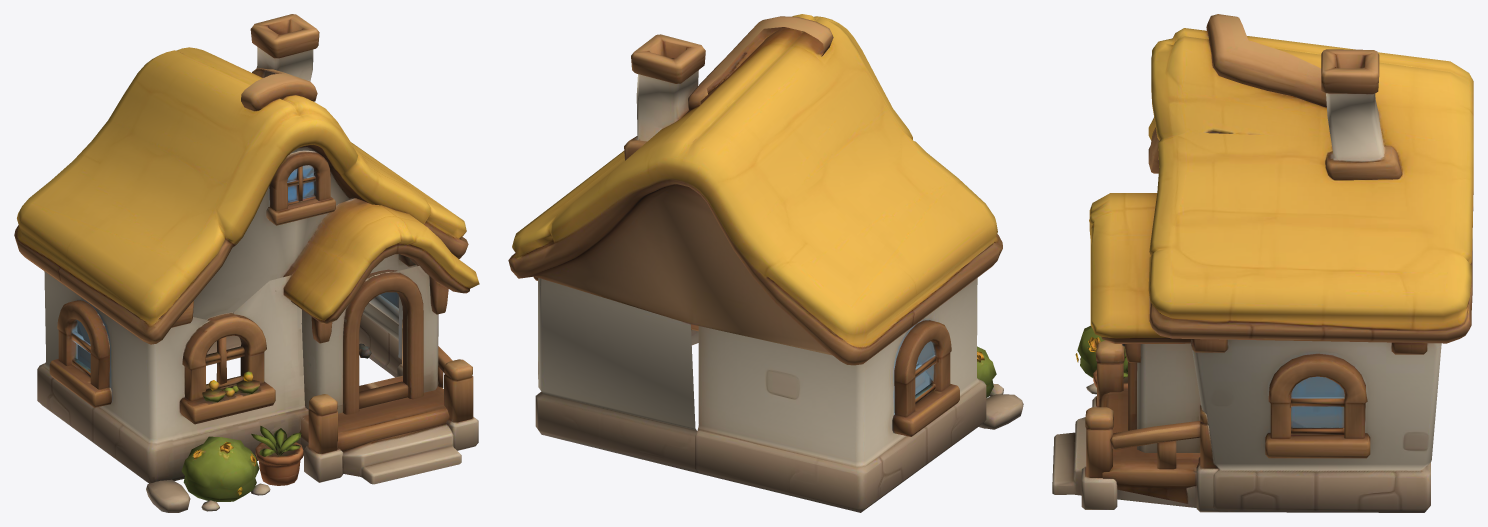
The model's file is yellow-cottage.glb.
3 views of the same model, side by side, from view 1: azimuth 30°, elevation 25°; view 2: azimuth 150°, elevation 25°; view 3: azimuth 270°, elevation 25° (orthographic). The views are drawn at different scales.
Parts seen in each view (by area): view 1: Yellow Cottage; view 2: Yellow Cottage; view 3: Yellow Cottage.
Boxes of the visible parts, bbox=[...] form: Yellow Cottage: bbox=[14, 14, 479, 512]; Yellow Cottage: bbox=[508, 14, 1023, 512]; Yellow Cottage: bbox=[1052, 14, 1473, 512].
Bounding box in the file's own units: 0.9746 × 0.998 × 0.9238.
Materials: 1 (1 with a texture image).
